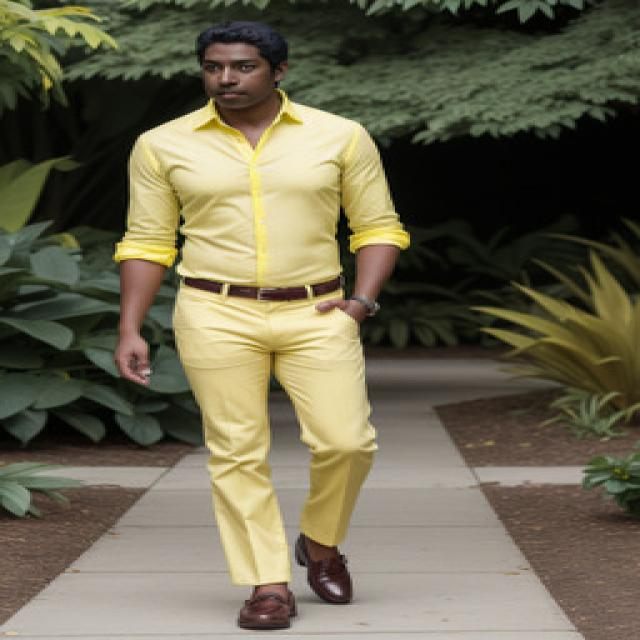Ai human 2: (91, 11, 438, 640)
